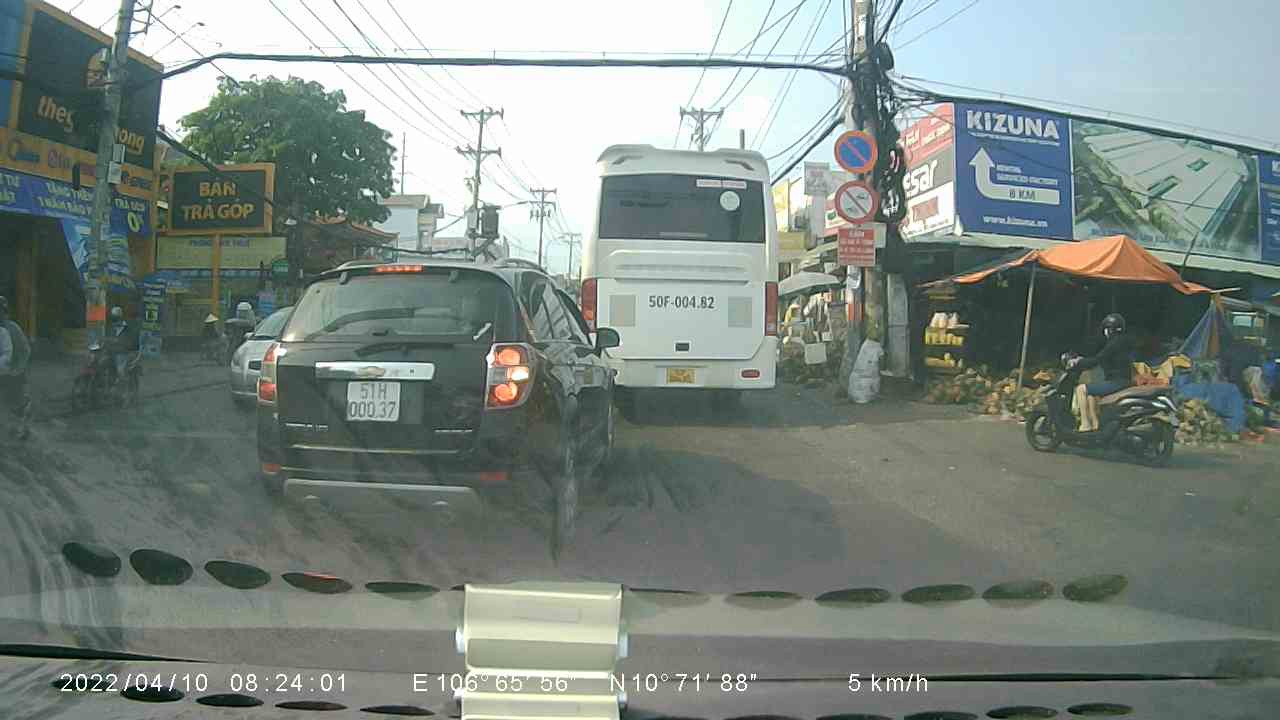Bien khac: (833, 180, 878, 225)
Cam do xe: (831, 127, 878, 178)
